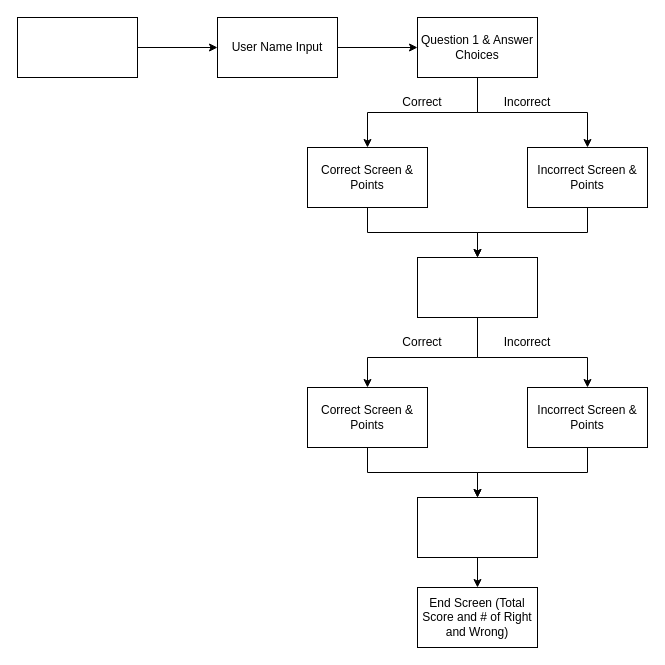
This 665x665 diagram has some shape labels left out. The shapes that lost their labels are listed below. From the top down, each one's centre as x and y in pixels, then its label:
(77,47): Welcome Screen
(477,287): Question 2 & Answer Choices
(477,527): More Questions
